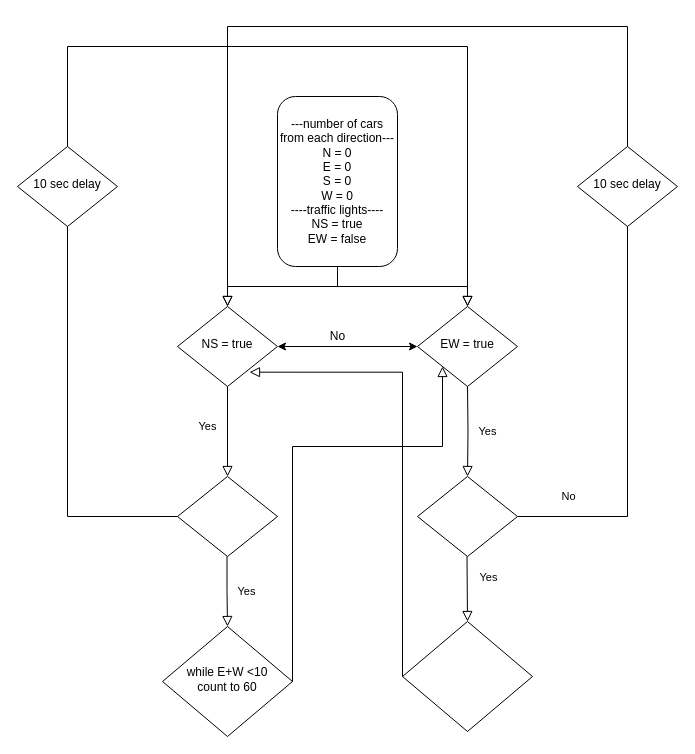
Image size: 695x754. Some labels were removed from this diagram. The centre of each missing label's shape, as x and y in pixels:
"EW = flase -------------- E+W < 10" goes at point (227, 516).
"NS = false ------------- N+S < 10" goes at point (467, 516).
"while N+S <10 count to 60" goes at point (467, 676).
